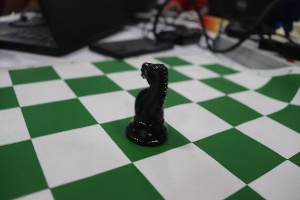black_horse: (116, 46, 175, 154)
